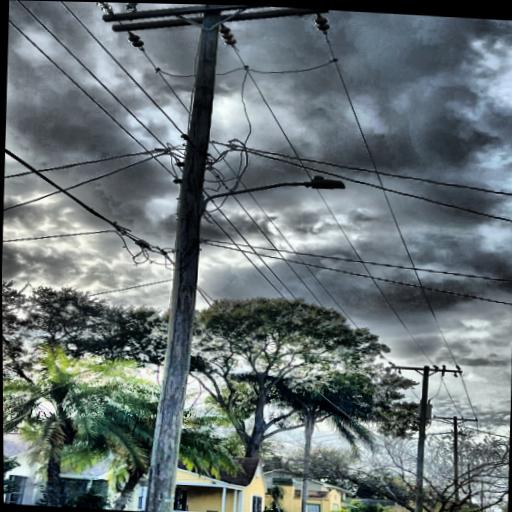pole: (122, 3, 234, 512)
street light: (190, 166, 349, 221)
